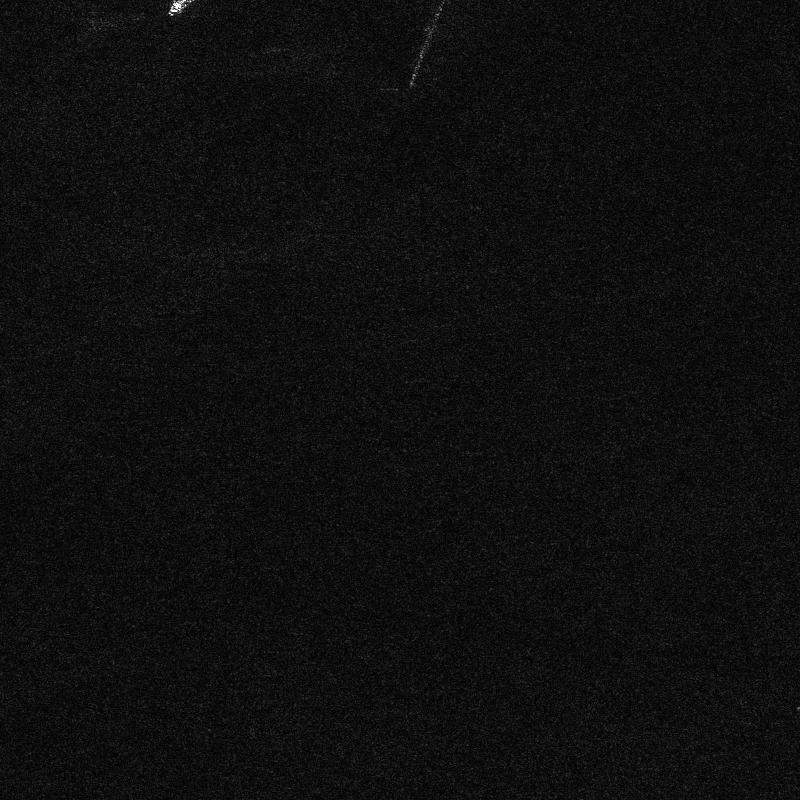ship: (167, 0, 194, 16)
